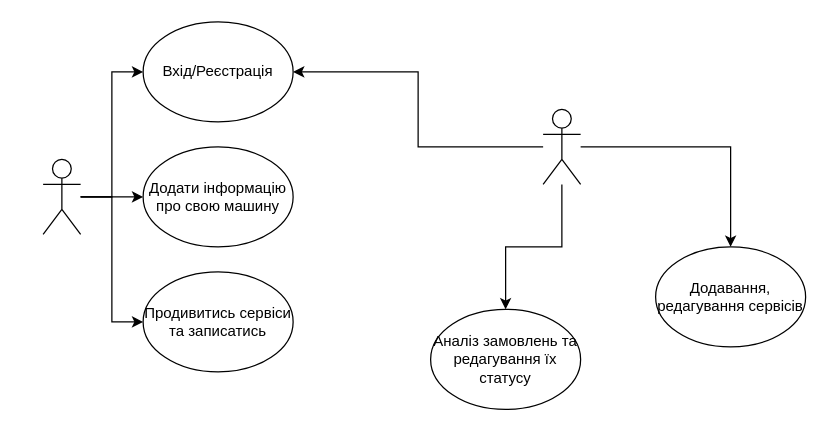
Some shapes in this 828 by 431 pixel diagram are drawn without their labels. Here are the shapes that lost their labels. From the top down, the centre of each, then its label:
At point (561, 146): "Адміністратор".
At point (61, 196): "Користувач".
